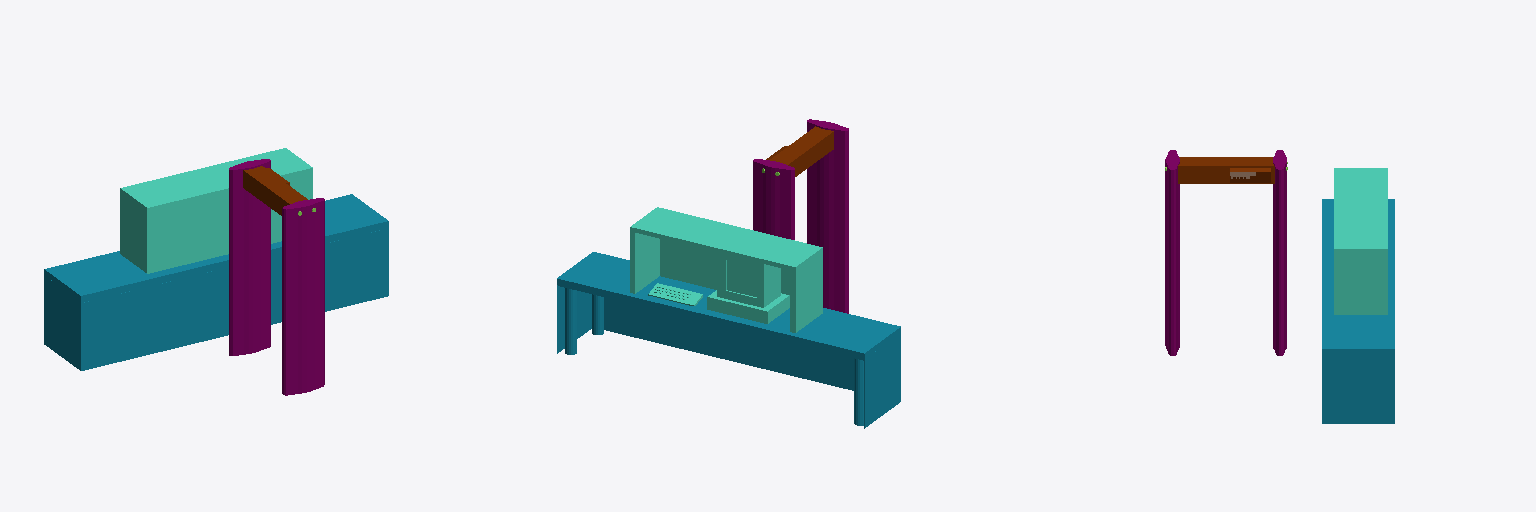
The model's file is CheckPoint.obj.
3 renders of one model, left to right at view 1: azimuth 30°, elevation 25°; view 2: azimuth 150°, elevation 25°; view 3: azimuth 270°, elevation 25°, orthographic.
Parts seen in each view (by area): view 1: Tabel, DeskTop, Pilar1, Pilar2, CrossBox; view 2: Tabel, DeskTop, Pilar1, Pilar2, CrossBox; view 3: Tabel, DeskTop, Pilar1, Pilar2, CrossBox.
Part boxes in pixels (bbox=[...]): Tabel: bbox=[44, 194, 388, 370]; DeskTop: bbox=[120, 148, 312, 273]; Pilar1: bbox=[282, 198, 324, 395]; Pilar2: bbox=[229, 159, 270, 355]; CrossBox: bbox=[243, 166, 307, 215]; Tabel: bbox=[557, 252, 900, 428]; DeskTop: bbox=[630, 207, 822, 332]; Pilar1: bbox=[807, 119, 848, 313]; Pilar2: bbox=[753, 159, 794, 239]; CrossBox: bbox=[766, 126, 833, 176]; Tabel: bbox=[1322, 199, 1394, 423]; DeskTop: bbox=[1334, 168, 1387, 314]; Pilar1: bbox=[1165, 150, 1179, 355]; Pilar2: bbox=[1273, 150, 1286, 355]; CrossBox: bbox=[1178, 157, 1274, 183].
Size of the model in its own units: 227 by 131 by 147.